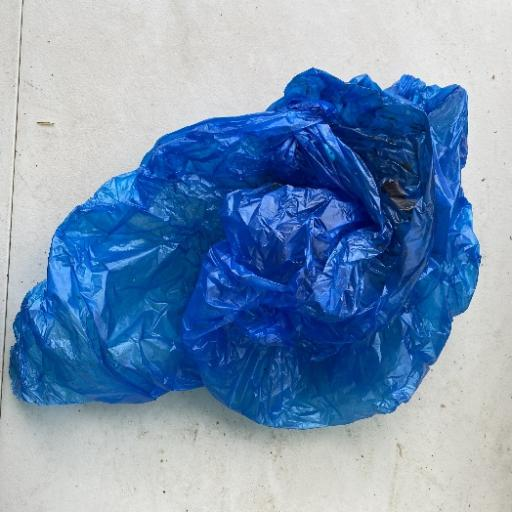Plastic: (8, 66, 482, 430)
